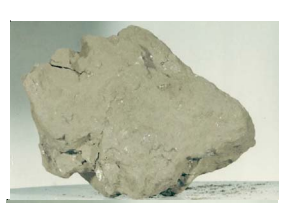Breccia: (22, 23, 238, 192), (24, 64, 256, 157)
